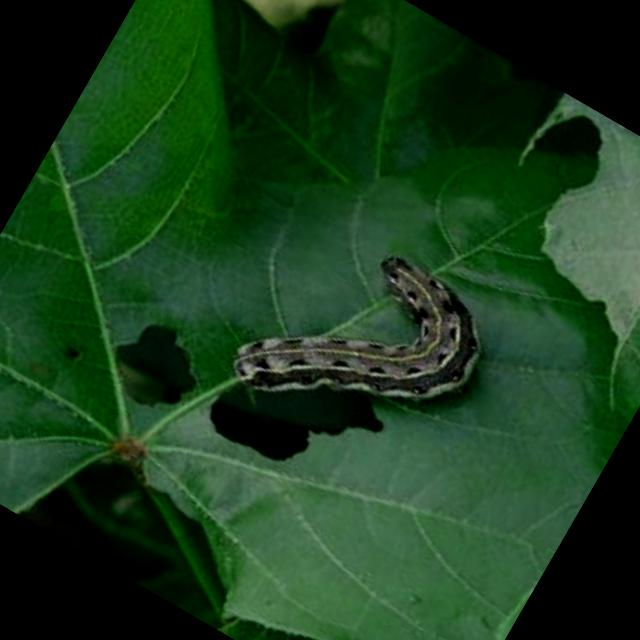Tobacco cutworm: (206, 162, 544, 503)
